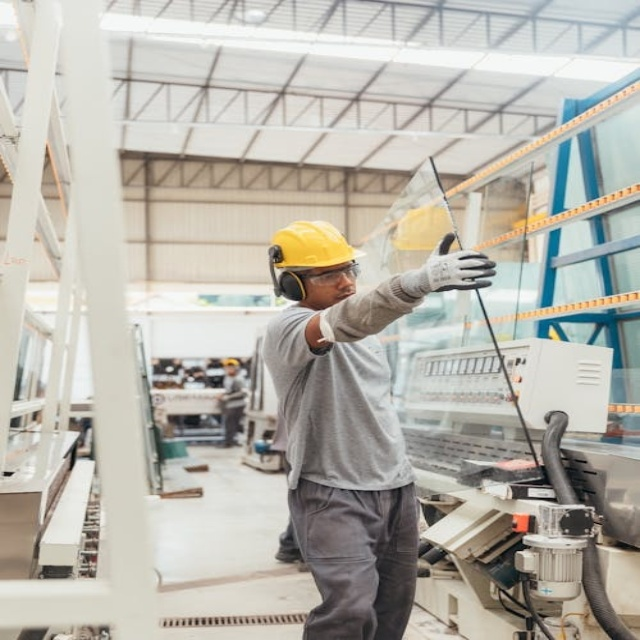Gafas: (298, 259, 366, 286)
Guantes: (407, 244, 495, 296)
Sin_mascara: (337, 290, 355, 299)
